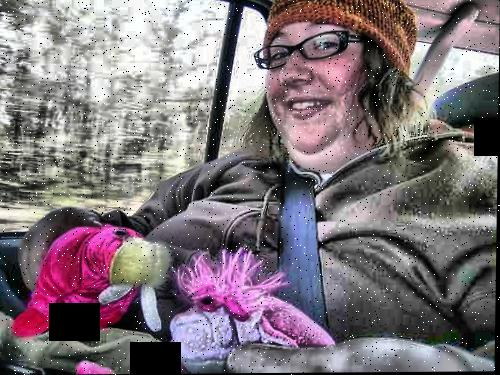seatbelt: (264, 149, 329, 317)
